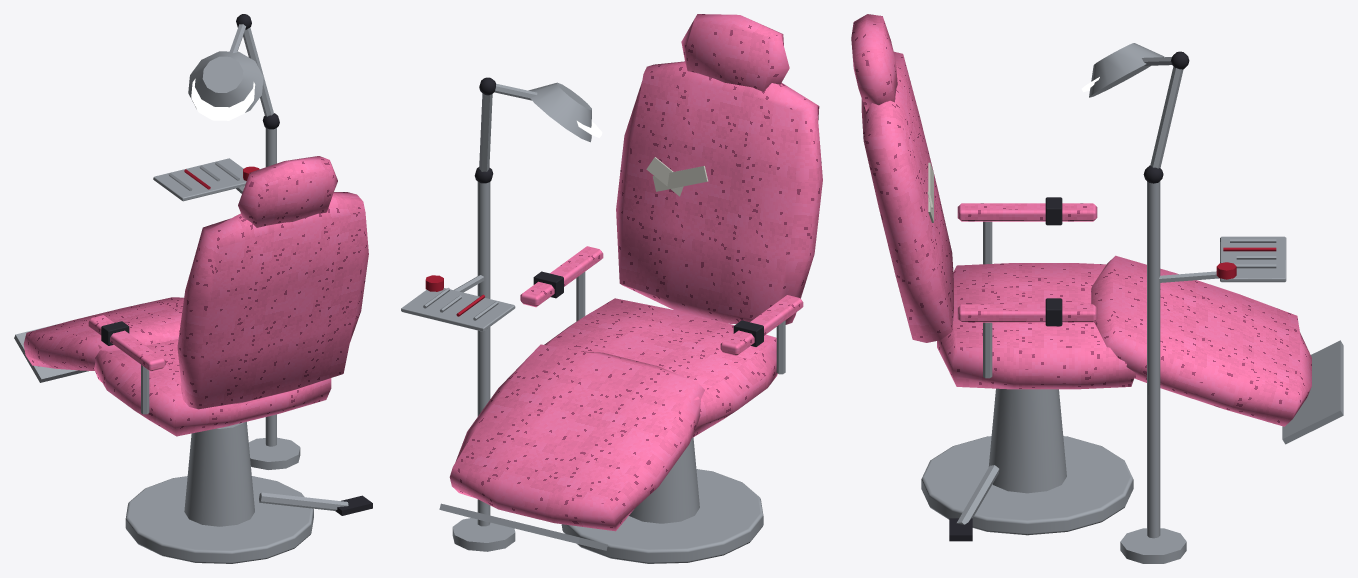
Rendered from s_dentist_chair.glb.
3 views of the same model, side by side, from view 1: azimuth 30°, elevation 25°; view 2: azimuth 150°, elevation 25°; view 3: azimuth 270°, elevation 25° (orthographic). The views are drawn at different scales.
Visible parts, largest first — view 1: s_dentist_chair_mesh; view 2: s_dentist_chair_mesh; view 3: s_dentist_chair_mesh.
Boxes of the visible parts, left/top/right/bottom form: s_dentist_chair_mesh: left=14, top=14, right=372, bottom=563; s_dentist_chair_mesh: left=401, top=14, right=822, bottom=563; s_dentist_chair_mesh: left=851, top=14, right=1343, bottom=563.
Size of what is drawn, in the model's own units: 0.9176 by 1.63 by 1.48.
6 materials, 5 textured.
